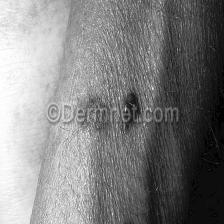Benign Marking or Mole: (78, 95, 107, 131), (120, 90, 143, 130)
